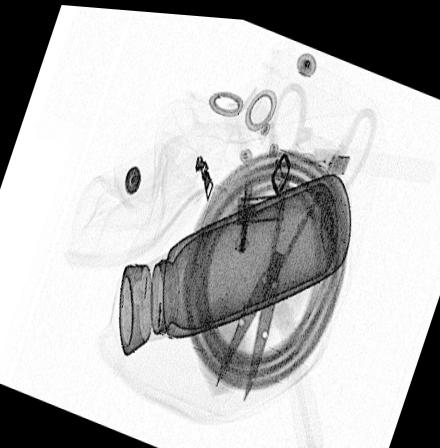Scissors: (214, 77, 375, 397)
